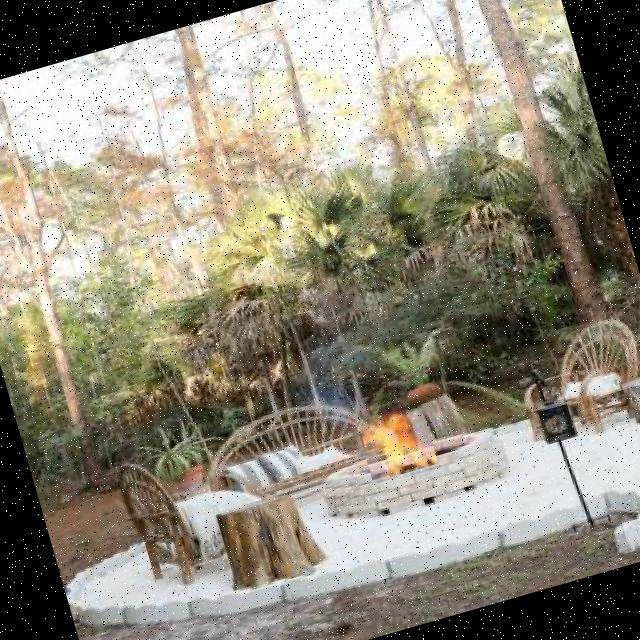fire: (356, 404, 438, 482)
